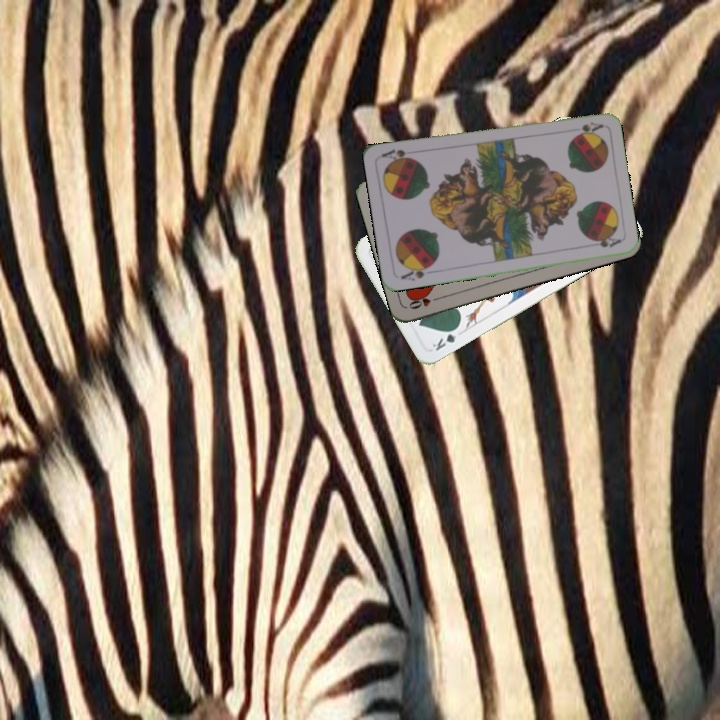GK: (428, 323, 462, 354)
HO: (405, 292, 444, 312)
SA: (397, 261, 436, 284), (575, 118, 605, 136)
